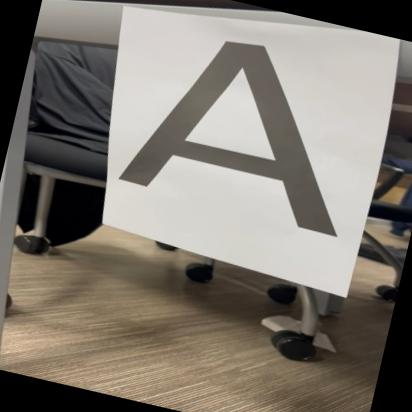seat: (91, 14, 396, 249)
